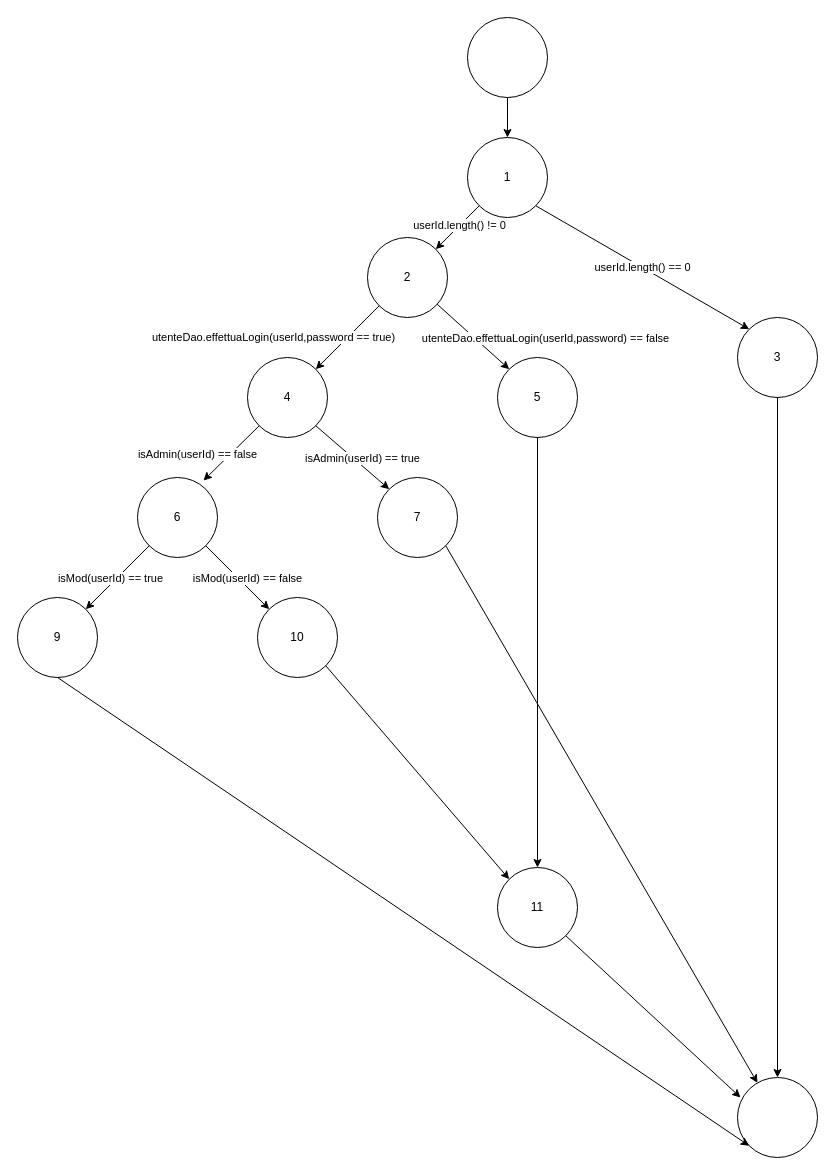
Some shapes in this 835 by 1175 pixel diagram are drawn without their labels. The box of each missing label's shape, as (x1, y1, x2, y2) in pixels:
Nf: (736, 1076, 818, 1158)
Ni: (466, 16, 548, 98)
